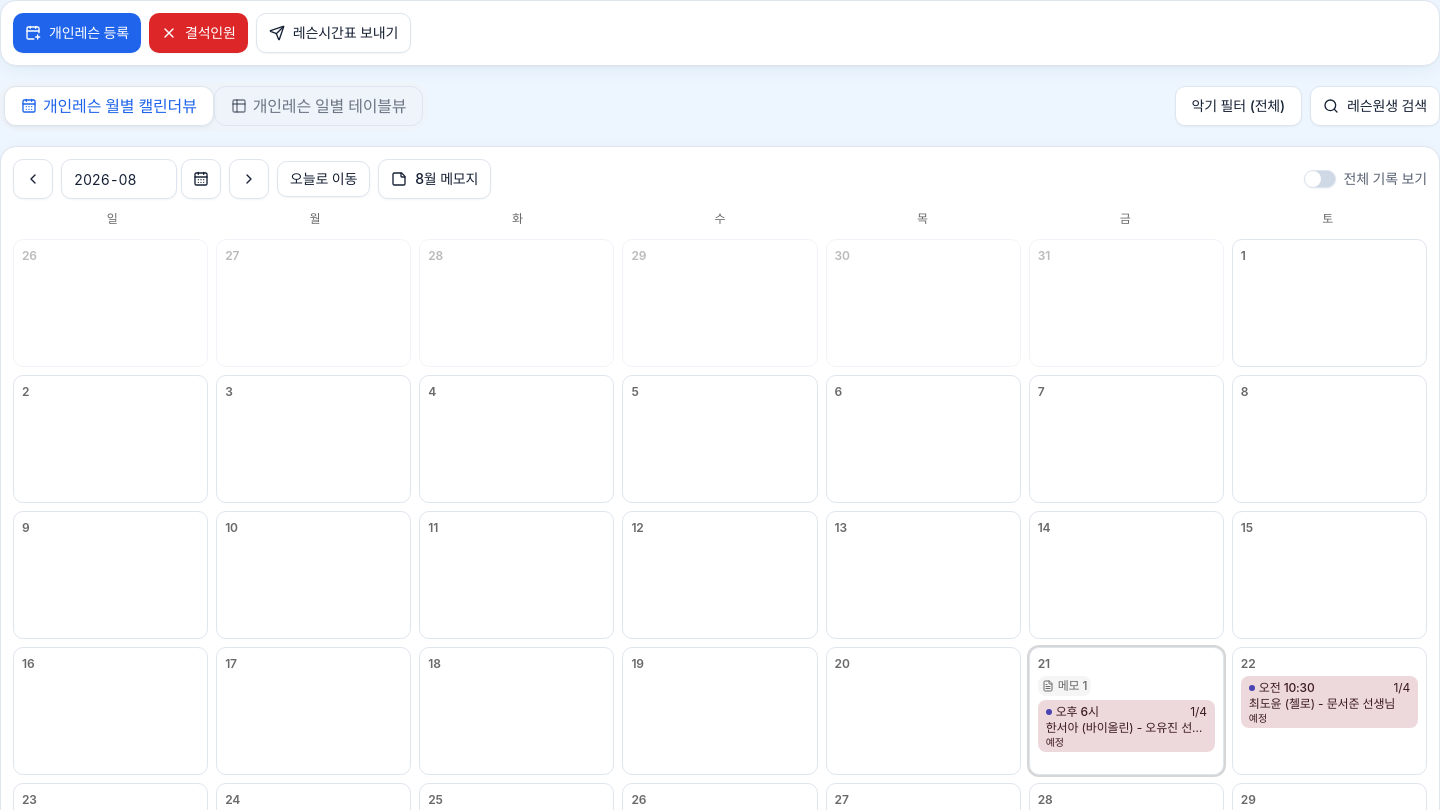
개인레슨표 결석인원 › 출석 확인에서 결석으로 바꾼 개인레슨이 결석인원에 바로 나타난다
The image size is (1440, 810).
Click the cell "21 메모 1 오후 6시 1/4 한서아 (바이올린) - 오유진 선생님 예정": (1126, 711) [1029, 647, 1224, 775]
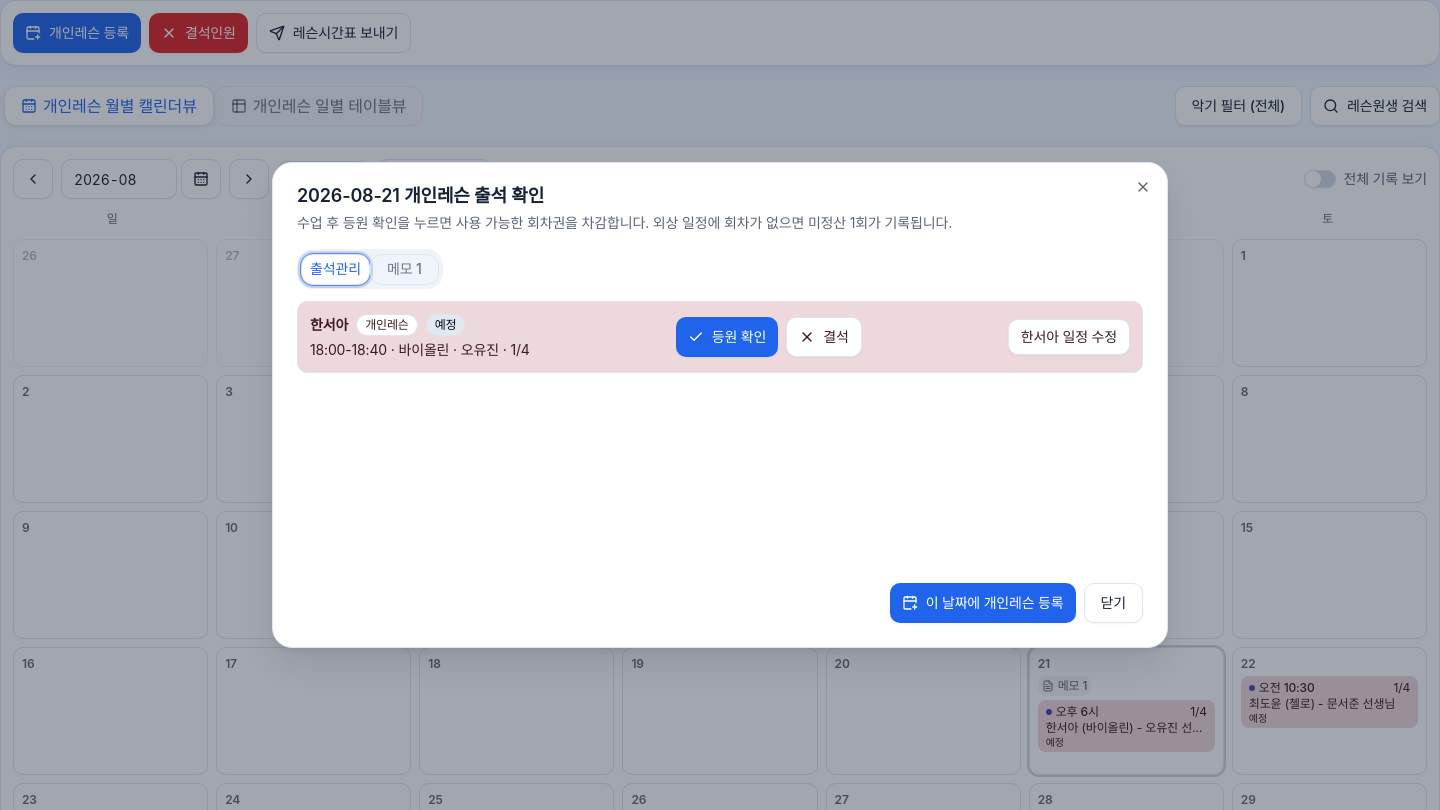
Click the button with aria-label "한서아 개인레슨 결석": (824, 337) [786, 317, 862, 357]
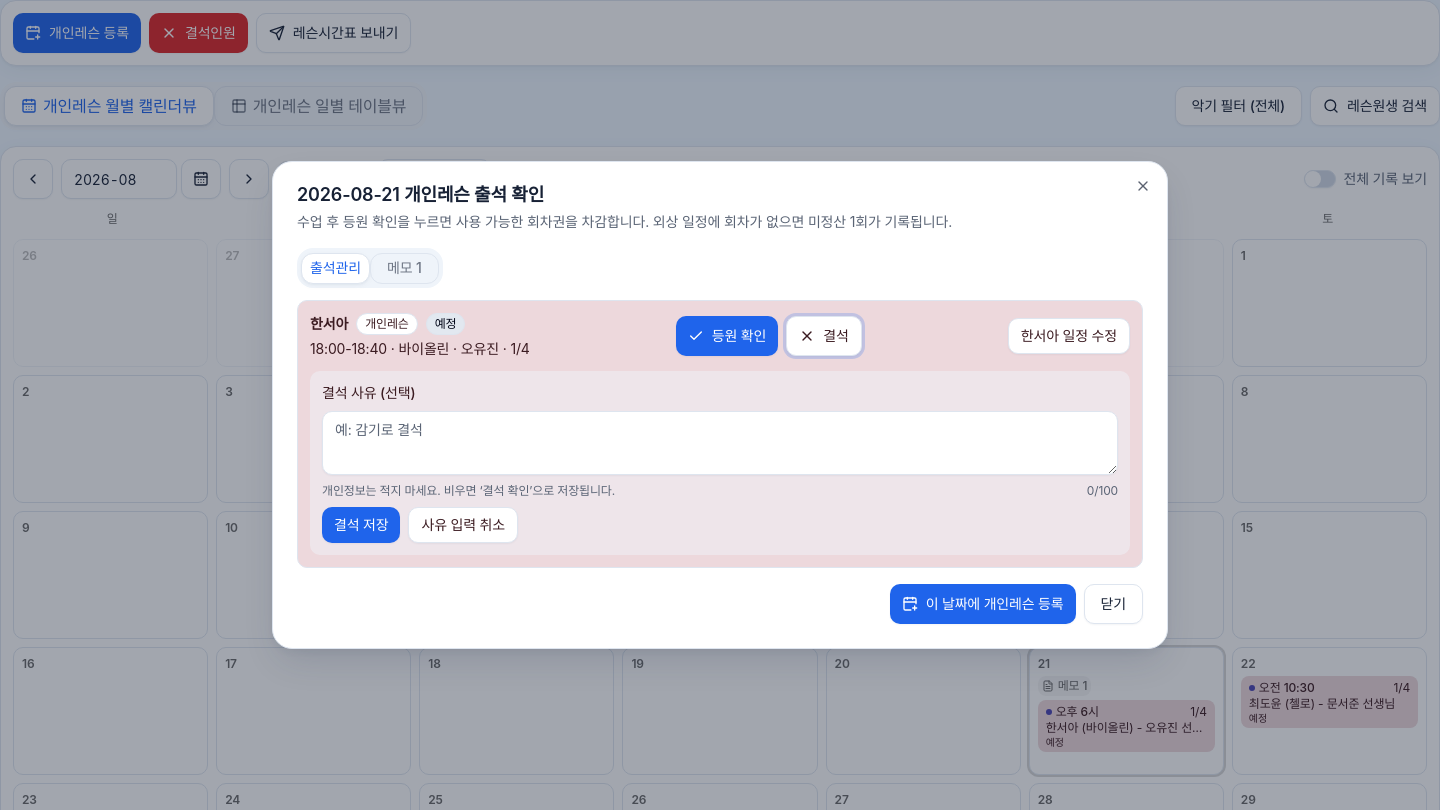
Click the button "결석 저장": (361, 525) [322, 507, 400, 543]
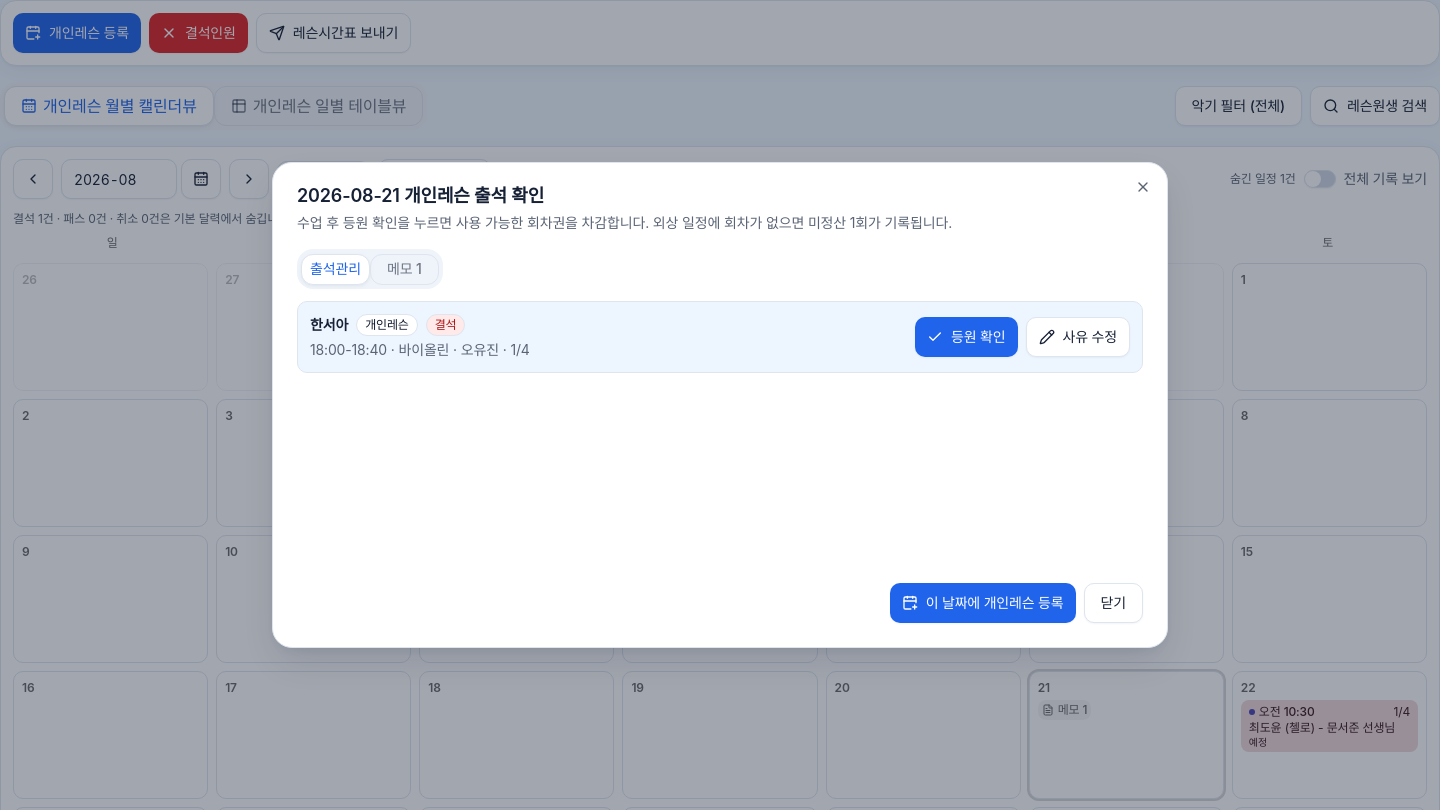
Click the button named "Close": (1143, 187) [1135, 179, 1151, 195]
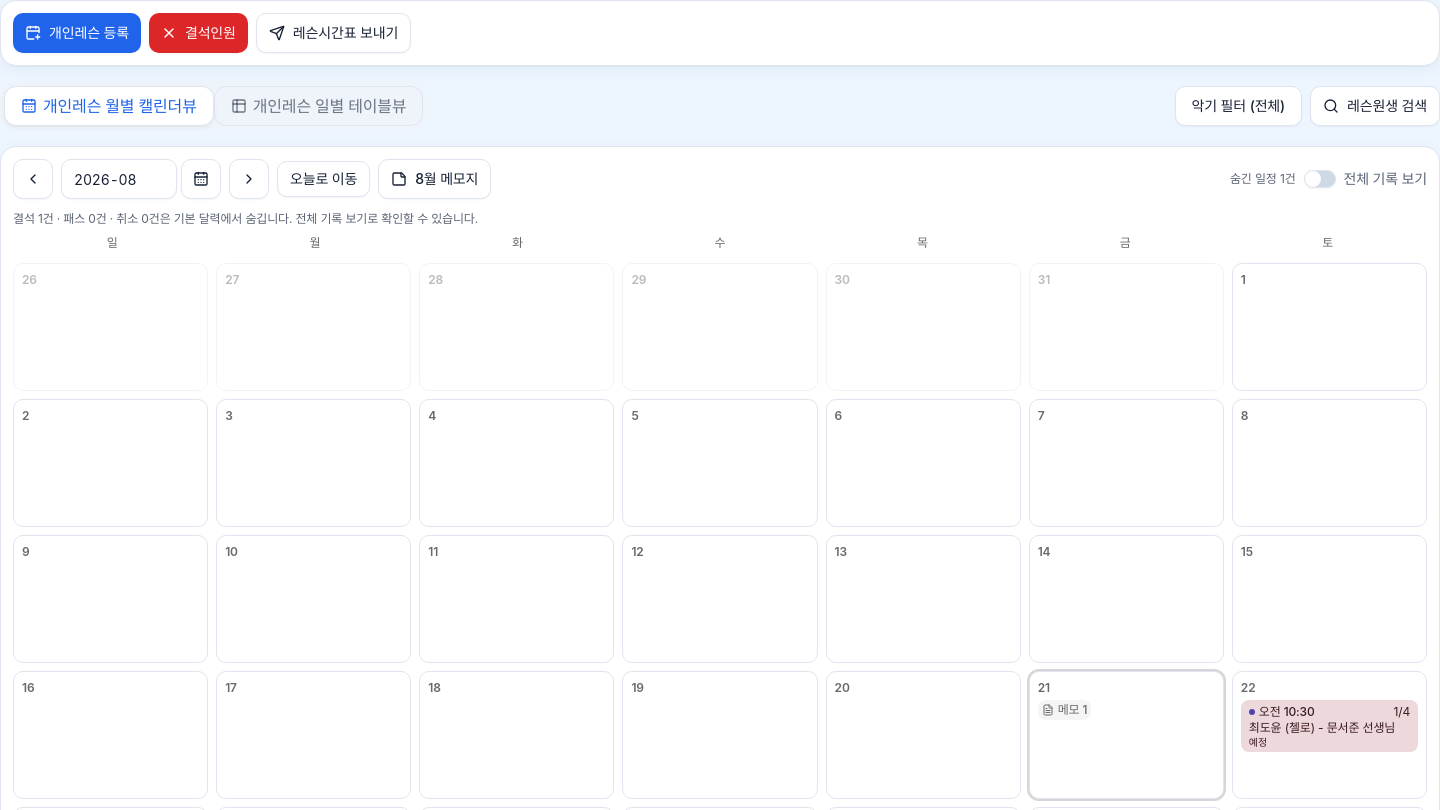
Click the button "결석인원": (198, 33) [149, 13, 248, 53]
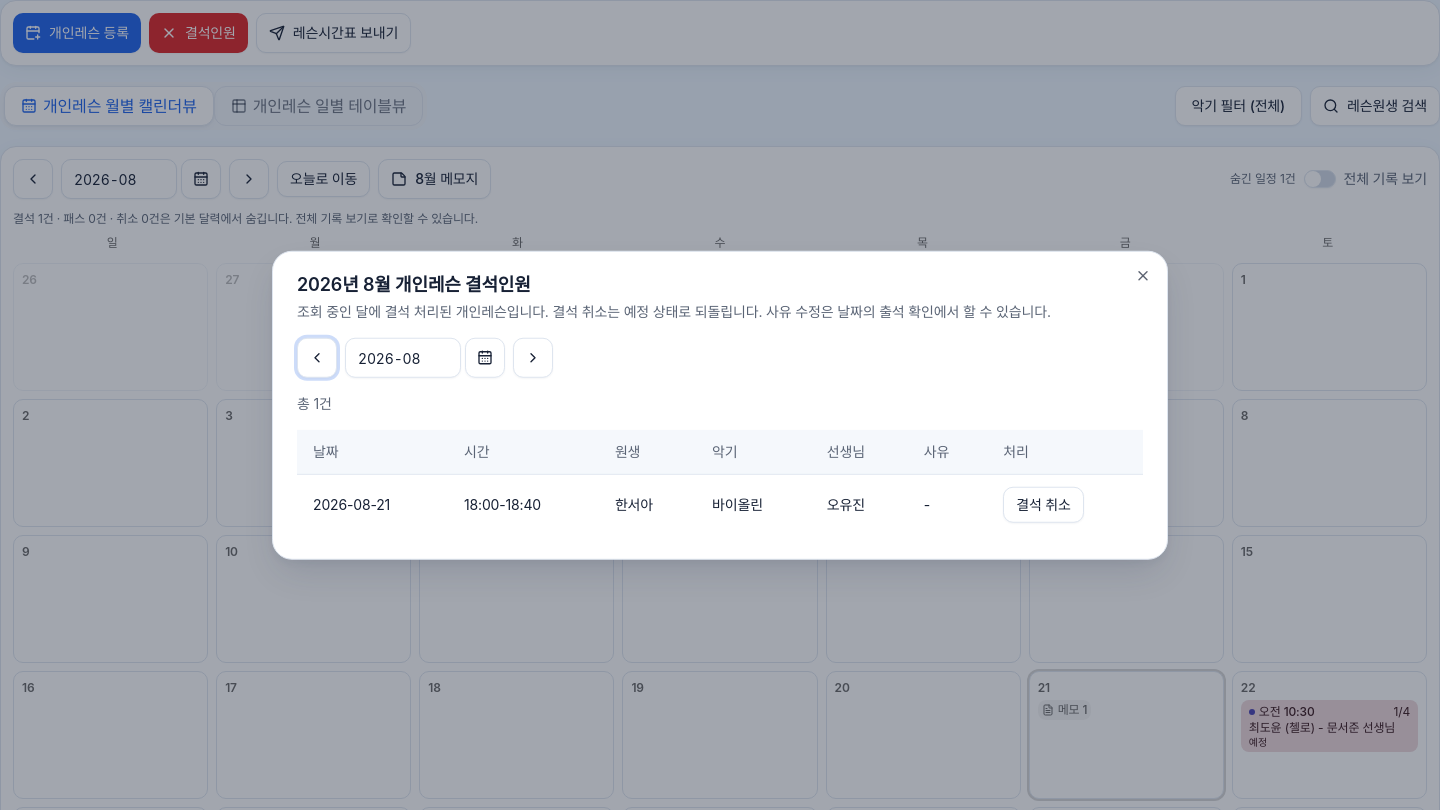
Expected: the dialog "2026년 8월 개인레슨 결석인원" does not show "최도윤", [272, 251, 1168, 559]
Expected: the dialog "2026년 8월 개인레슨 결석인원" shows "한서아", [615, 495, 653, 512]
